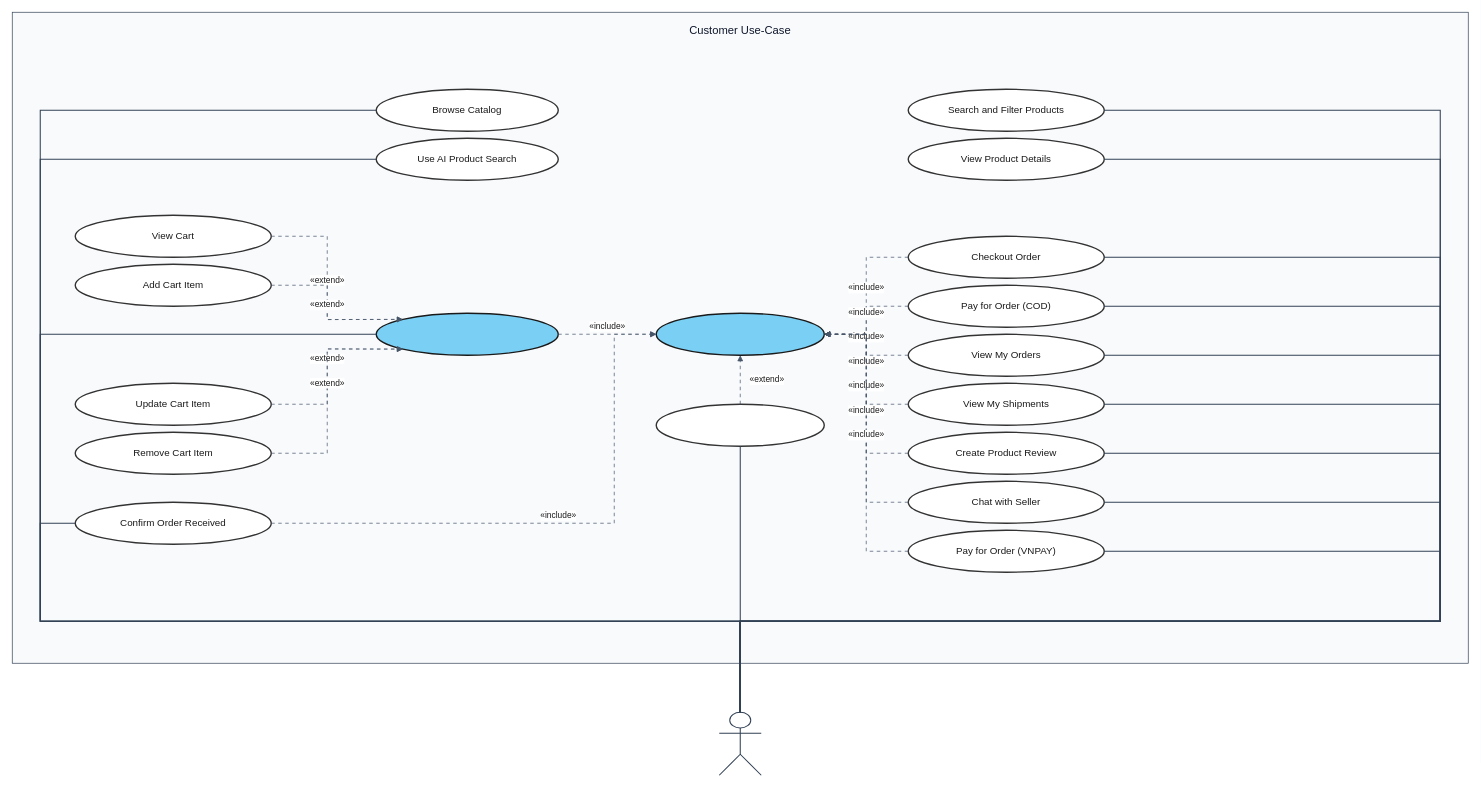
Image size: 1481x804. Some labels were removed from this diagram. Here are the shapes that lost their labels. From the top down, the box of each, then its label:
(375, 312, 559, 356): Manage Cart
(655, 312, 825, 356): Login
(655, 403, 825, 447): Logout
(718, 711, 761, 775): Customer
